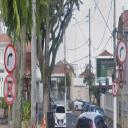NoSeguir: (112, 81, 118, 96)
